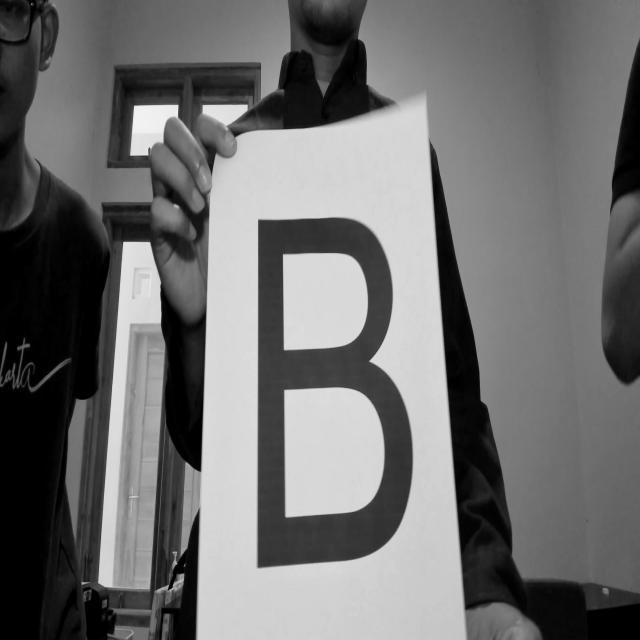b: (251, 205, 416, 580)
